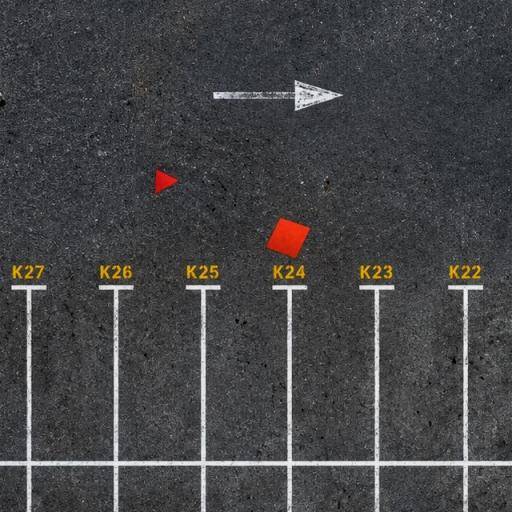RED_SQUARE: (265, 217, 312, 259)
